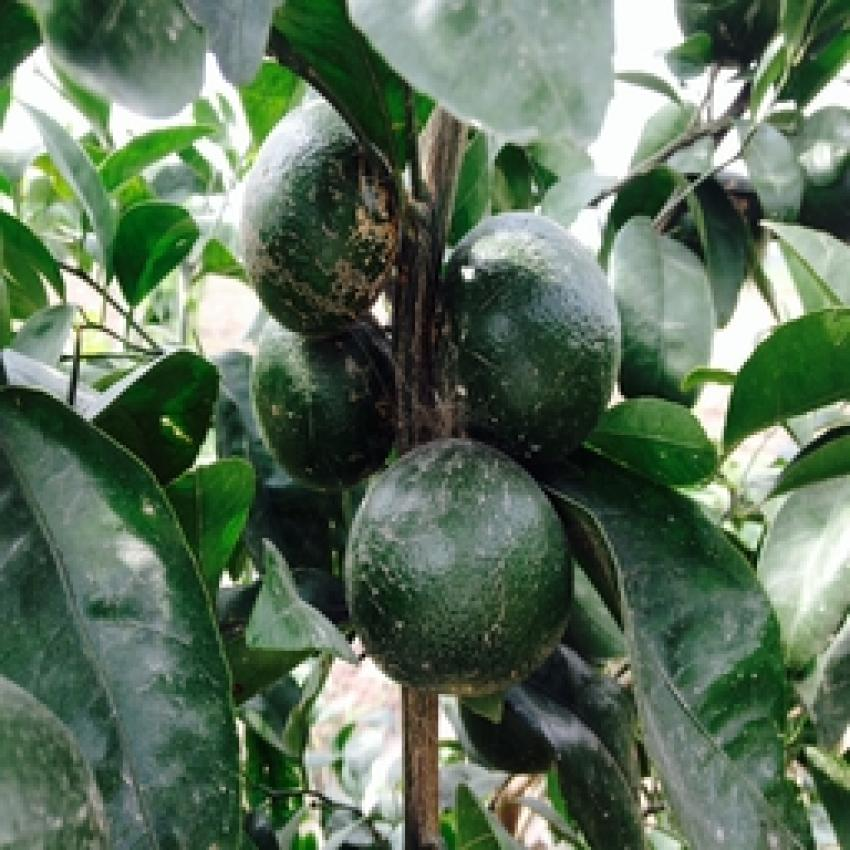Mal estado: (332, 428, 592, 696), (425, 201, 644, 480), (233, 90, 408, 344), (248, 290, 403, 501)
